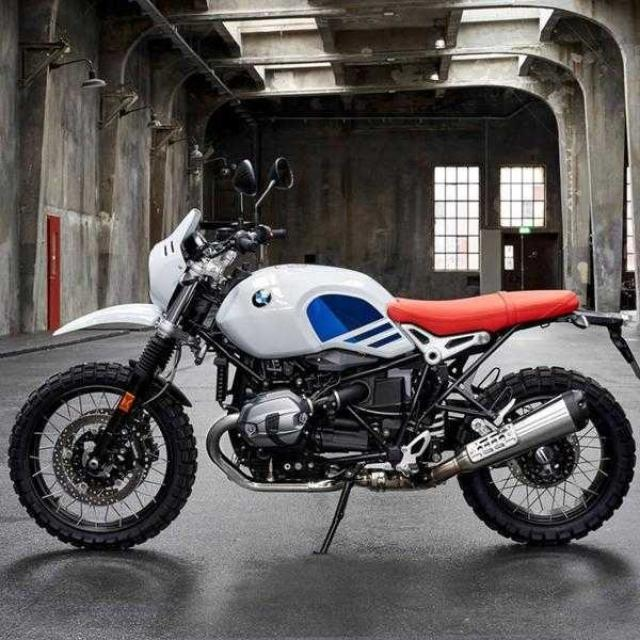motorcycle: (8, 173, 638, 552)
